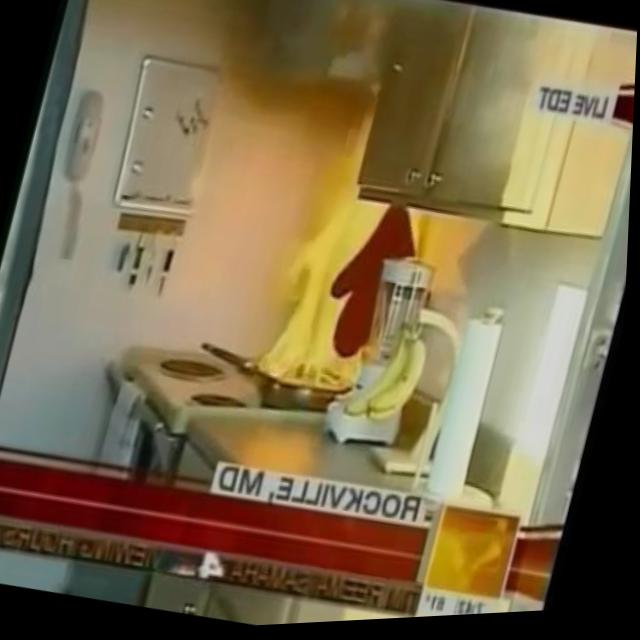fire: (261, 192, 387, 399)
